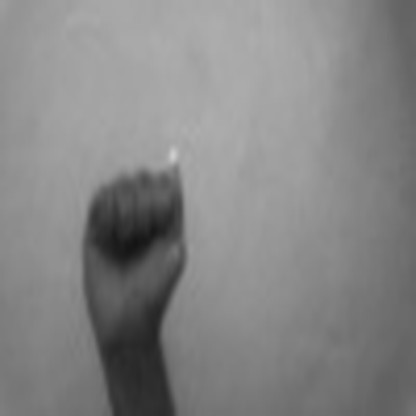a: (79, 160, 187, 340)
